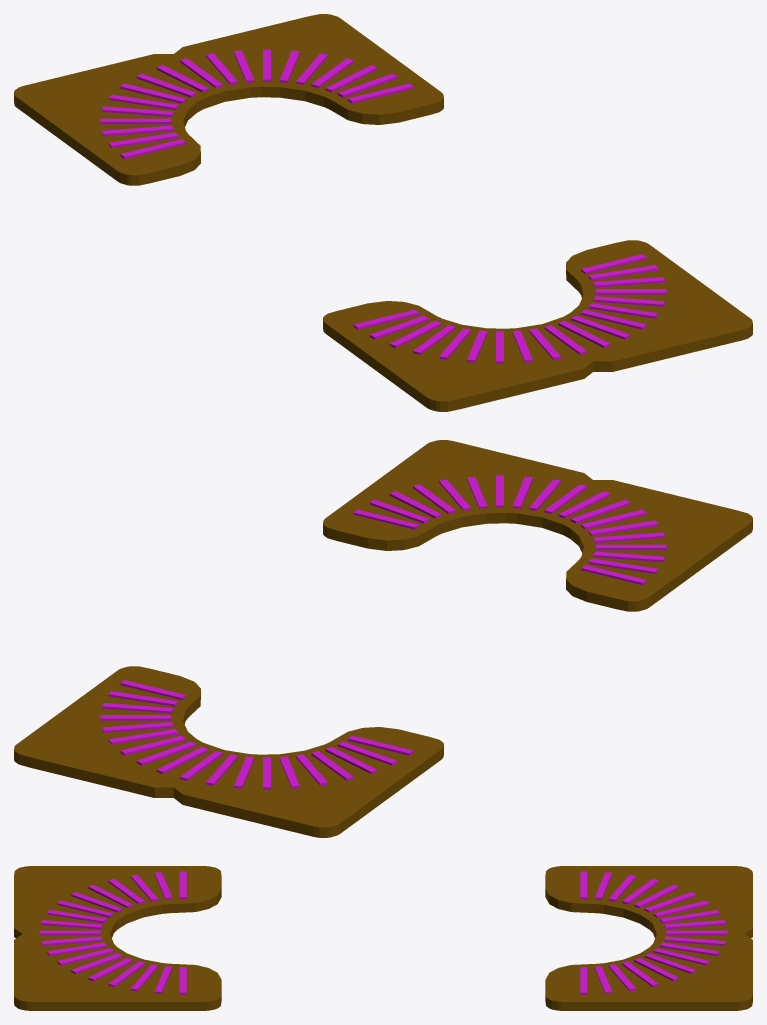
The model's file is Numbers.fbx.
The picture shows the model from 3 angles, top to bottom: view 1: azimuth 30°, elevation 25°; view 2: azimuth 150°, elevation 25°; view 3: azimuth 270°, elevation 25°; orthographic projection. The views are drawn at different scales.
Visible parts, largest first — view 1: pasted__nurbsToPoly3 (×2); view 2: pasted__nurbsToPoly3 (×2); view 3: pasted__nurbsToPoly3 (×2), pCube7 (×2), pCube17 (×2), pCube8 (×2), pCube18 (×2), pCube9 (×2), pCube19 (×2), pCube10 (×2), pCube20 (×2), pCube11 (×2), pCube12 (×2), pCube21 (×2) (+2 smaller).
Boxes of the visible parts, box(x1,y1,x2,y2) form: pasted__nurbsToPoly3 (×2): box(14, 14, 752, 411); pasted__nurbsToPoly3 (×2): box(14, 440, 752, 837); pasted__nurbsToPoly3 (×2): box(14, 866, 752, 1010); pCube7 (×2): box(39, 930, 727, 935); pCube17 (×2): box(41, 920, 725, 945); pCube8 (×2): box(41, 920, 725, 945); pCube18 (×2): box(47, 910, 719, 955); pCube9 (×2): box(47, 910, 719, 955); pCube19 (×2): box(57, 900, 709, 965); pCube10 (×2): box(57, 900, 709, 965); pCube20 (×2): box(71, 892, 695, 973); pCube11 (×2): box(71, 892, 695, 973); pCube12 (×2): box(88, 884, 678, 981); pCube21 (×2): box(88, 884, 678, 981).
Size of the model in its own units: 15.8 by 0.5938 by 36.35.
